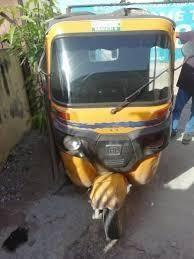keke: (44, 5, 182, 255)
